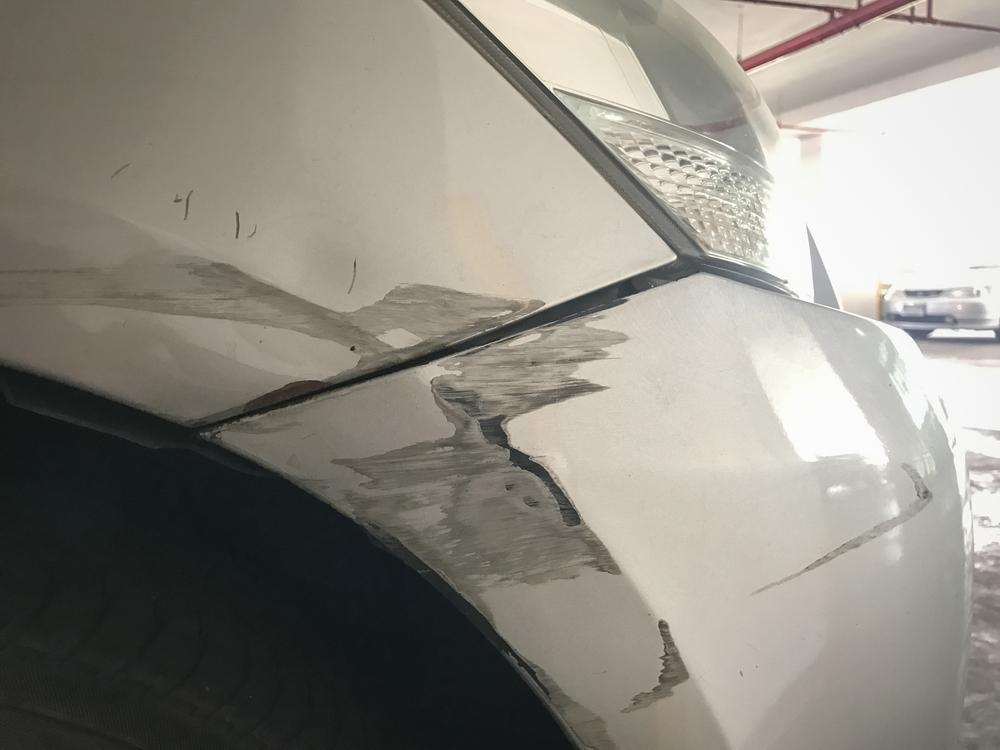scratch: (198, 293, 696, 750), (0, 249, 544, 430), (746, 457, 935, 596)
